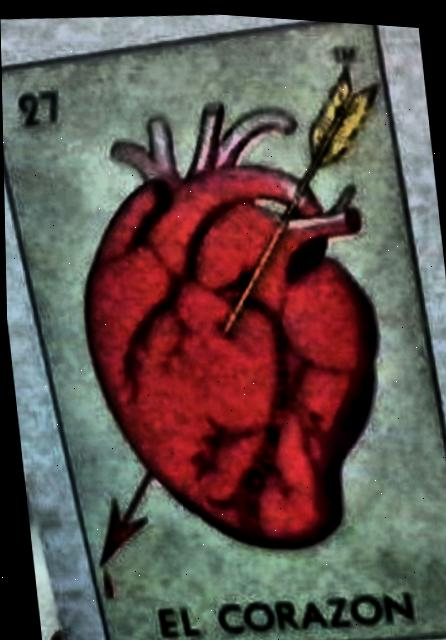El Corazon: (1, 17, 446, 640)
